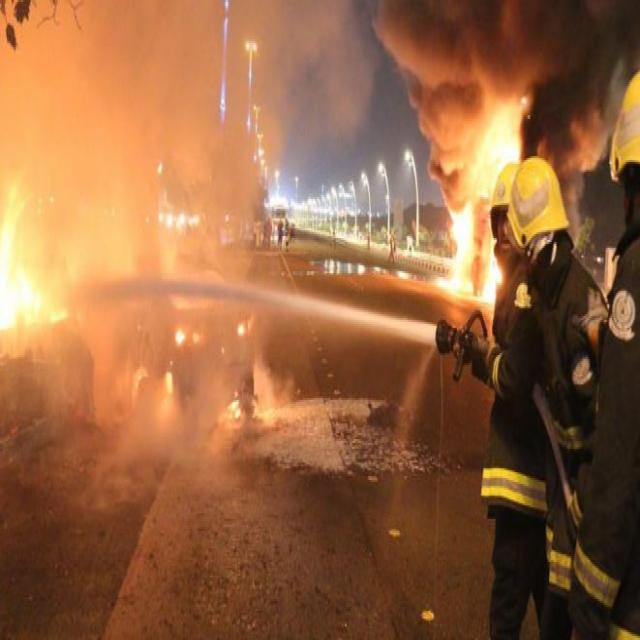Fire: (450, 123, 520, 308), (0, 234, 59, 334)
